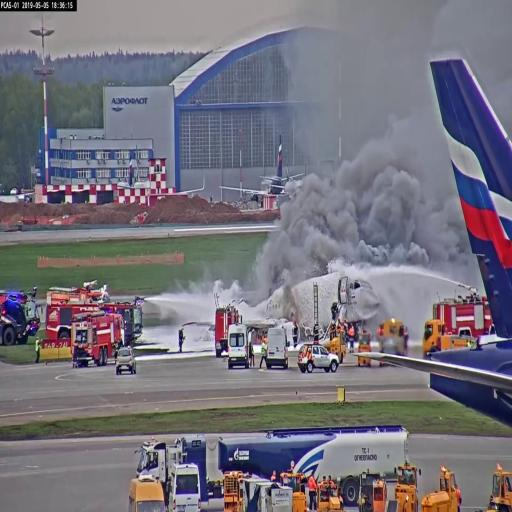smoke: (286, 177, 417, 272)
